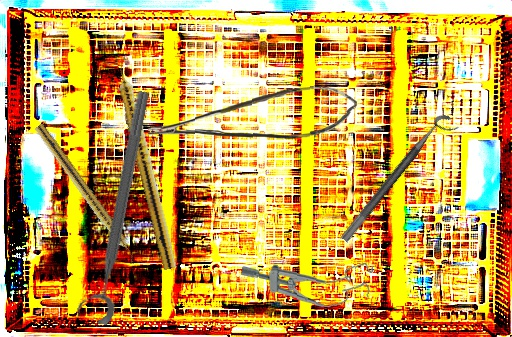Fixation Ring: (73, 86, 157, 327), (339, 110, 461, 252)
Handpiece: (31, 122, 141, 266), (110, 54, 182, 271)
Micro Scissor: (147, 83, 358, 143)
Speculum: (239, 256, 374, 310)
